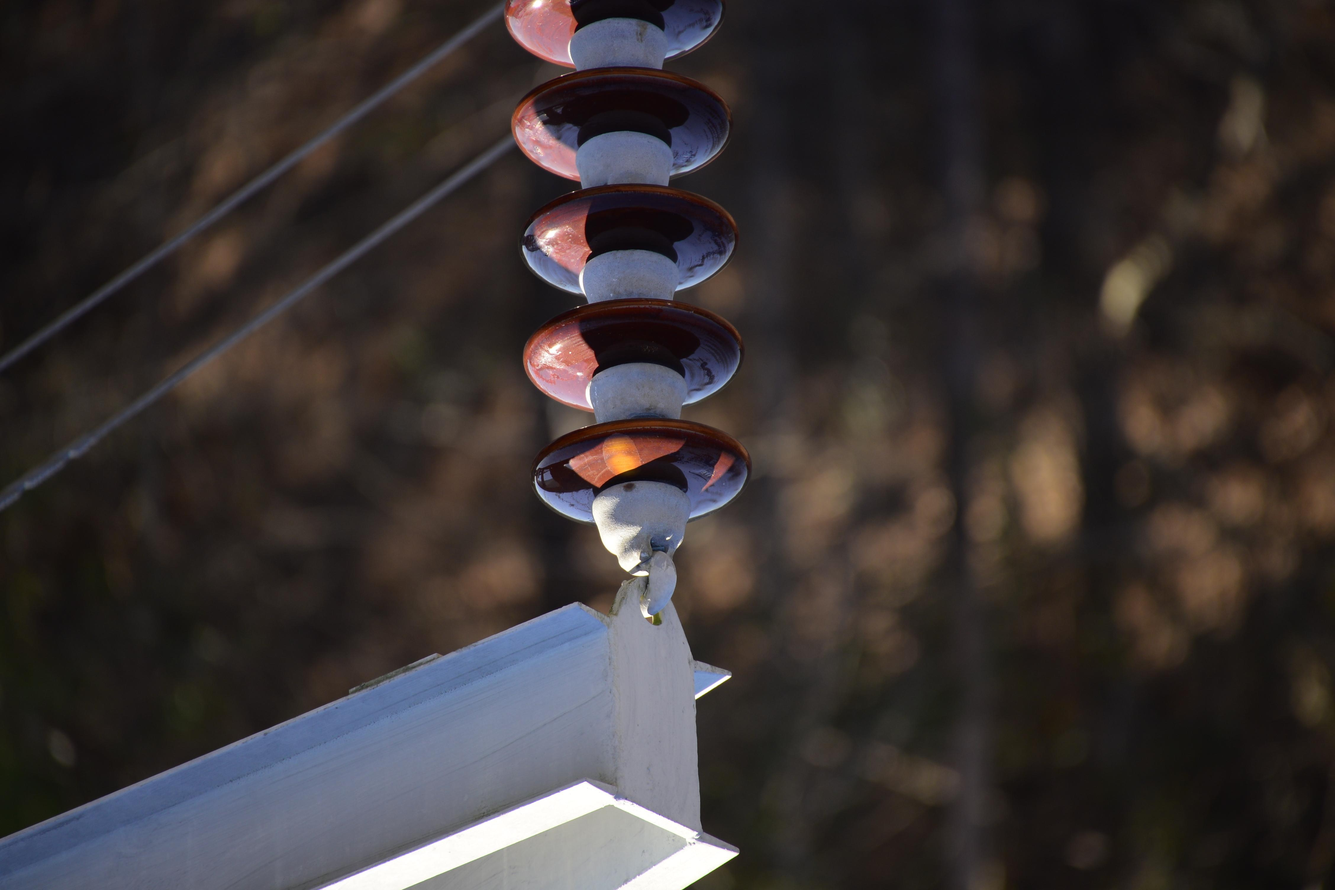Flashover: (596, 428, 650, 487)
insulator: (501, 0, 746, 529)
